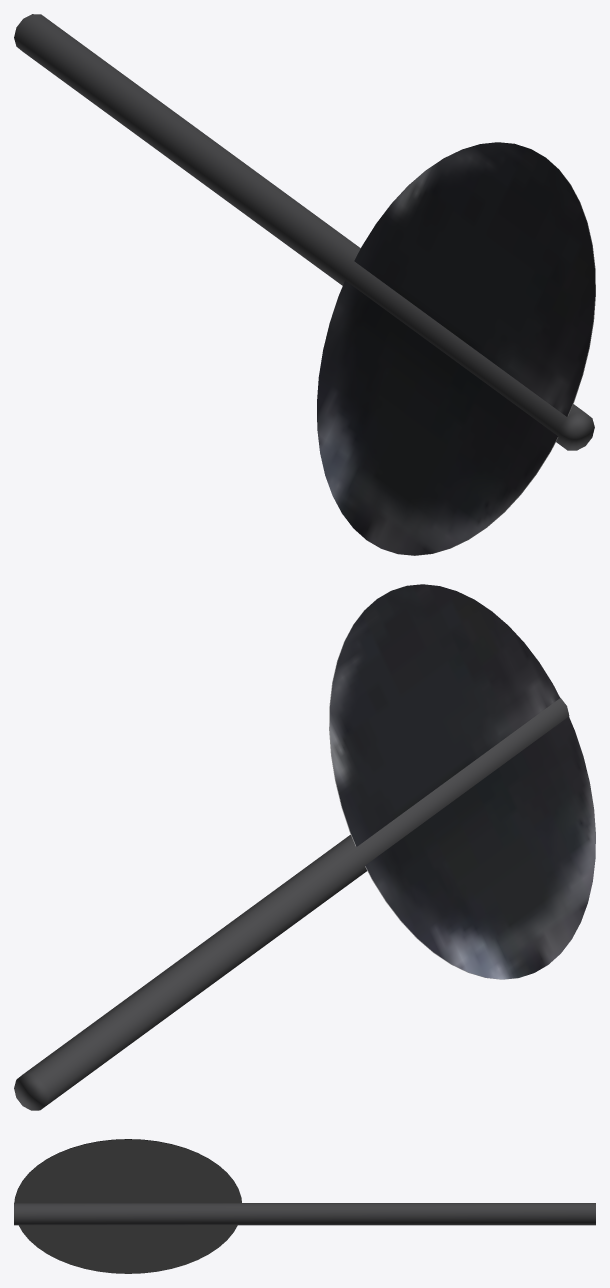
The model's file is sign_7.glb.
3 renders of one model, top to bottom at view 1: azimuth 30°, elevation 25°; view 2: azimuth 150°, elevation 25°; view 3: azimuth 270°, elevation 25°, orthographic. The views are drawn at different scales.
Parts seen in each view (by area): view 1: sign_7; view 2: sign_7; view 3: sign_7.
Boxes of the visible parts, x1,y1,x2,y2 form: sign_7: (14,14,595,555); sign_7: (14,584,595,1110); sign_7: (14,1139,595,1273).
Bounding box in the file's own units: 0.00761 × 0.0137 × 0.0399.
Materials: 3 (1 with a texture image).
